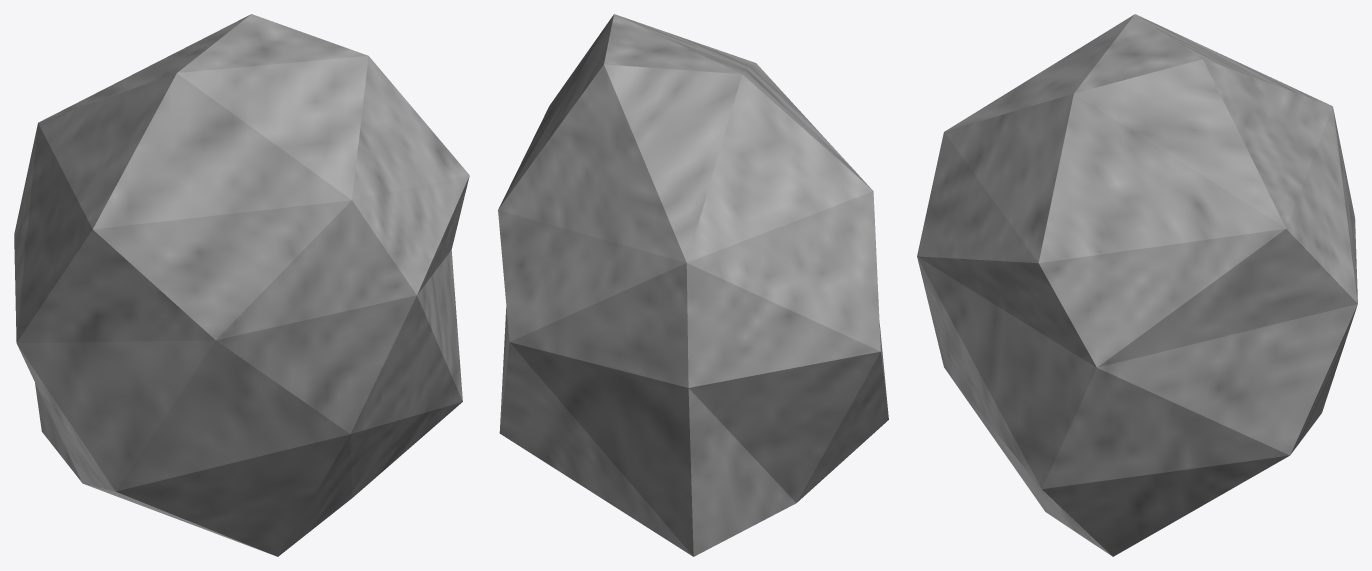
Rendered from asbestos_2.glb.
3 renders of one model, left to right at view 1: azimuth 30°, elevation 25°; view 2: azimuth 150°, elevation 25°; view 3: azimuth 270°, elevation 25°, orthographic. The views are drawn at different scales.
Visible parts, largest first — view 1: Asbestos2; view 2: Asbestos2; view 3: Asbestos2.
Boxes of the visible parts, x1,y1,x2,y2 form: Asbestos2: [14, 14, 469, 556]; Asbestos2: [498, 14, 888, 556]; Asbestos2: [917, 14, 1357, 556].
Bounding box in the file's own units: 0.1337 × 0.1486 × 0.1242.
Materials: 1 (1 with a texture image).
